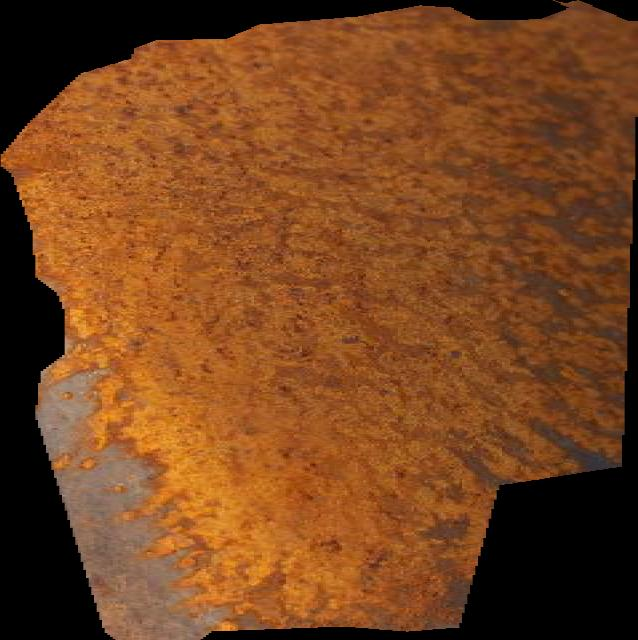Uniform Corrosion: (1, 0, 638, 640)
